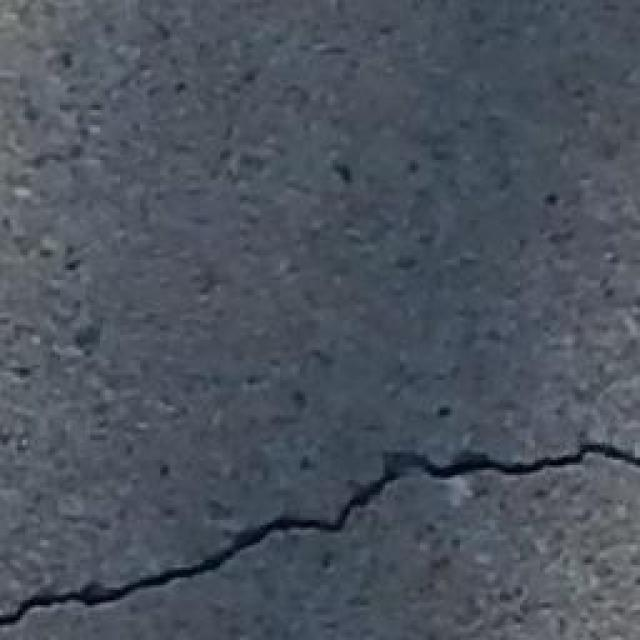concrete-crack: (2, 428, 637, 631)
